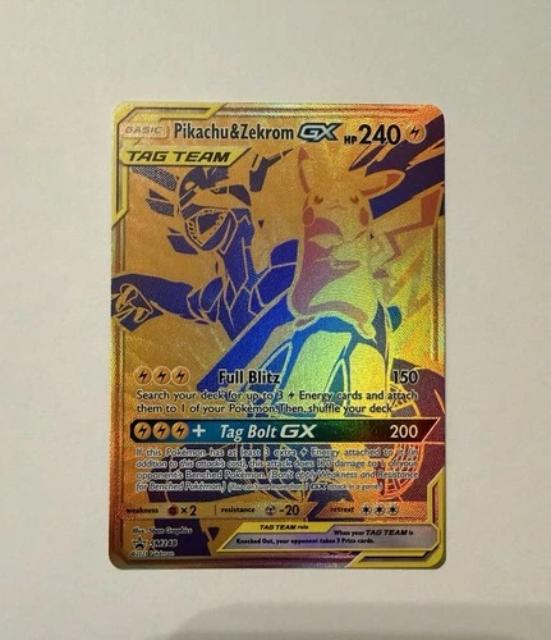Card: (99, 96, 453, 573)
Name: (173, 118, 347, 146)
